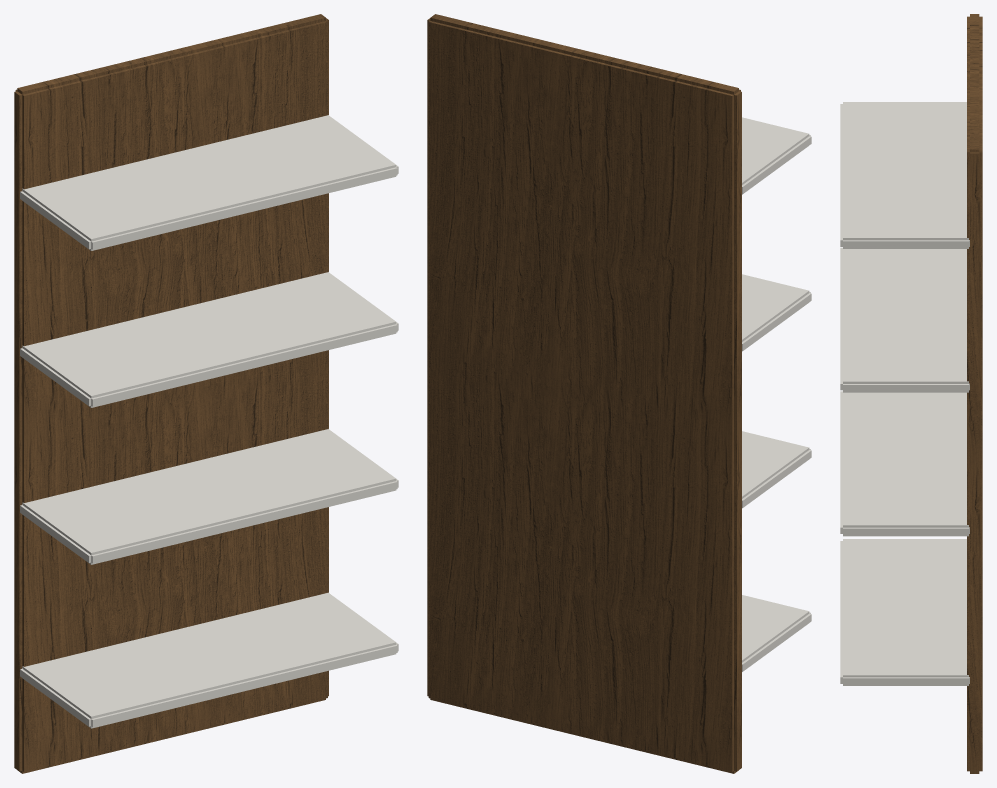
File: fixture_narrow_wall.glb
3 views of the same model, side by side, from view 1: azimuth 30°, elevation 25°; view 2: azimuth 150°, elevation 25°; view 3: azimuth 270°, elevation 25° (orthographic). The views are drawn at different scales.
Parts seen in each view (by area): view 1: fixture_narrow_wall_CC0_Oak_veneer, fixture_narrow_wall_Warm_white_coating; view 2: fixture_narrow_wall_CC0_Oak_veneer, fixture_narrow_wall_Warm_white_coating; view 3: fixture_narrow_wall_Warm_white_coating, fixture_narrow_wall_CC0_Oak_veneer.
Boxes of the visible parts, x1,y1,x2,y2 form: fixture_narrow_wall_CC0_Oak_veneer: (14, 14, 328, 773); fixture_narrow_wall_Warm_white_coating: (20, 115, 398, 728); fixture_narrow_wall_CC0_Oak_veneer: (427, 14, 741, 773); fixture_narrow_wall_Warm_white_coating: (742, 117, 811, 671); fixture_narrow_wall_Warm_white_coating: (840, 102, 969, 685); fixture_narrow_wall_CC0_Oak_veneer: (967, 14, 982, 773).
Bounding box in the file's own units: 0.95 × 2 × 0.4125.
Materials: 2 (1 with a texture image).
